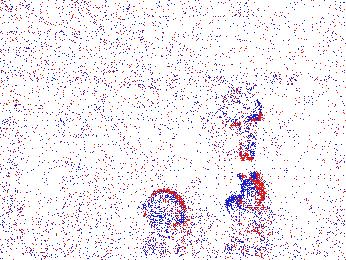flame jellyfish: (219, 86, 263, 161), (225, 171, 274, 228), (142, 188, 195, 230)
